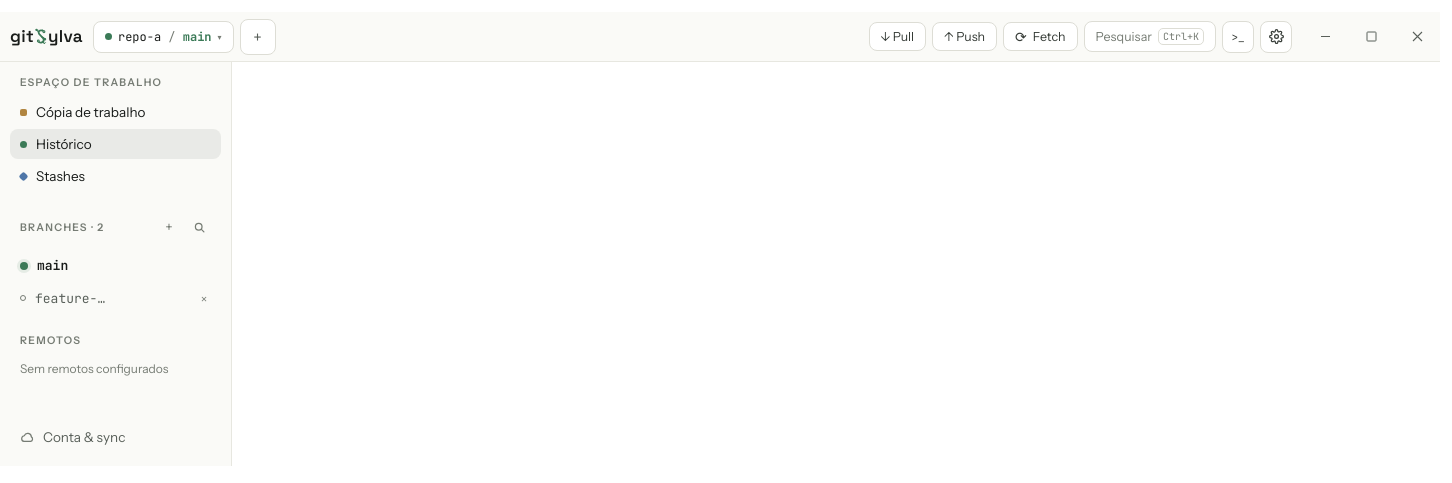
Scenario: Repo switch: the repo dropdown updates the active repo and dependent views refetch its data › switching back to repo A restores its branches (round trip, not a one-way fluke)
Expected: the button "main" is shown, left=20, top=257, right=68, bottom=274
Click the button "repo-a / main ▾": point(163, 36) left=93, top=20, right=234, bottom=52
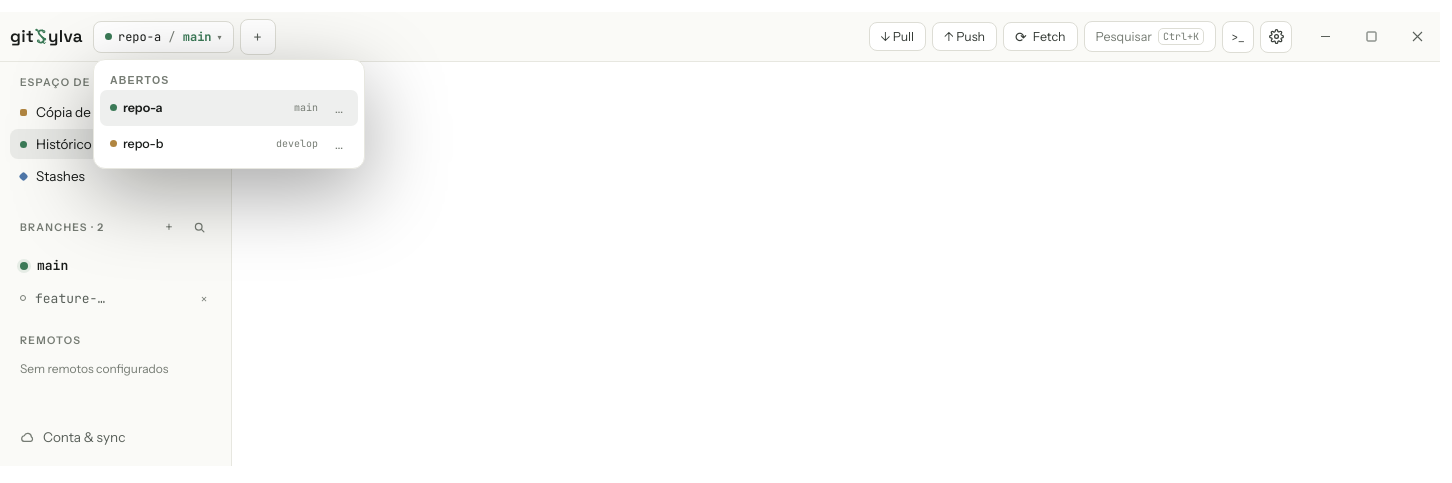
Click the text "repo-b": point(143, 144) left=123, top=136, right=163, bottom=151
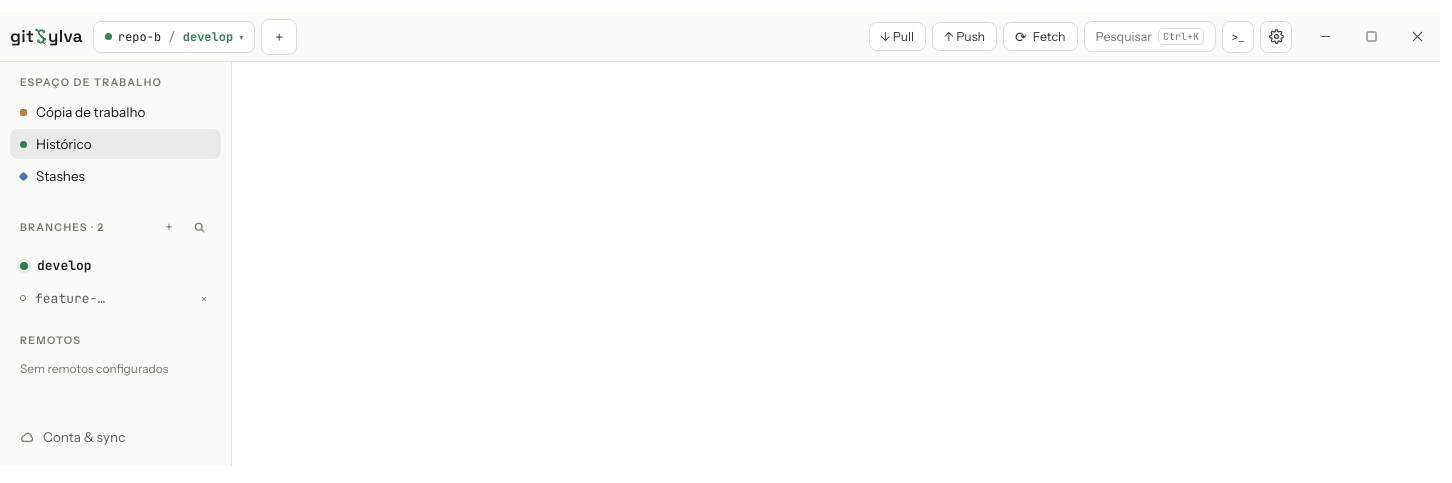
Expected: the button "develop" is shown, left=20, top=257, right=92, bottom=274
Click the button "repo-b / develop ▾": point(174, 36) left=93, top=20, right=255, bottom=52
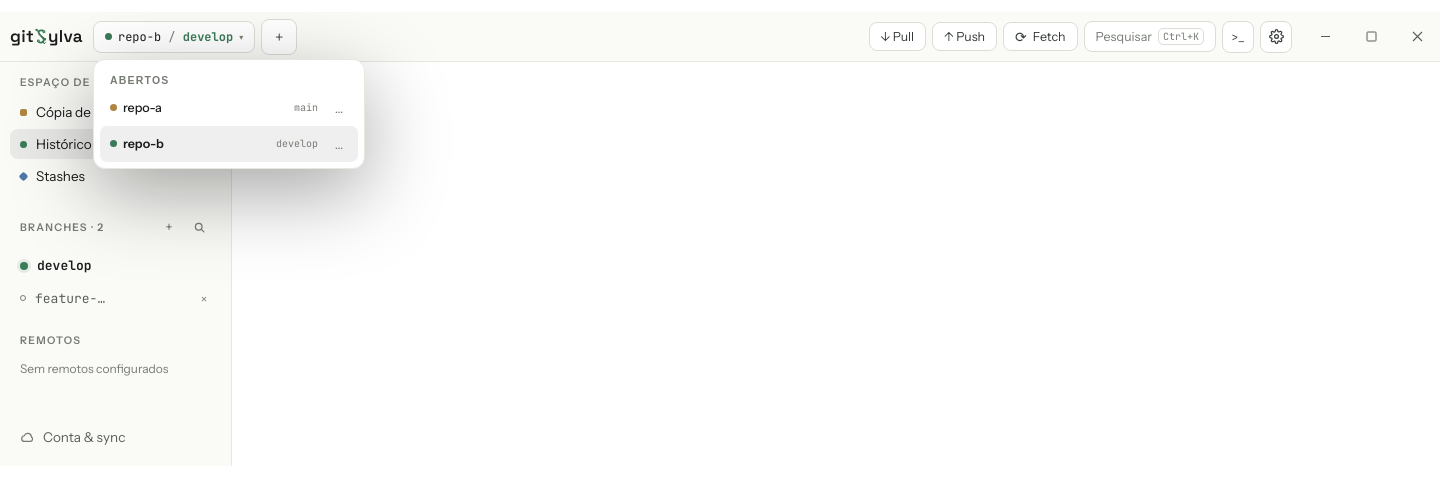
Click the text "repo-a": point(142, 108) left=123, top=100, right=162, bottom=115
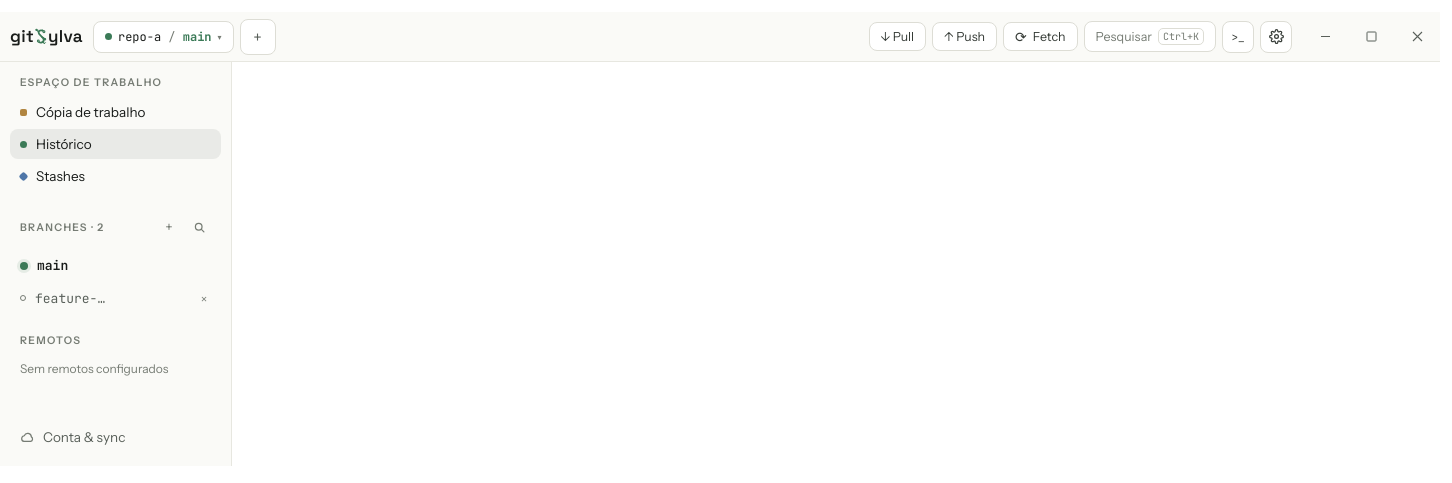
Expected: the button "feature-a-only ✕" is shown, left=20, top=290, right=211, bottom=306
Expected: the button "main" is shown, left=20, top=257, right=68, bottom=274
Expected: the button "develop" is gone
